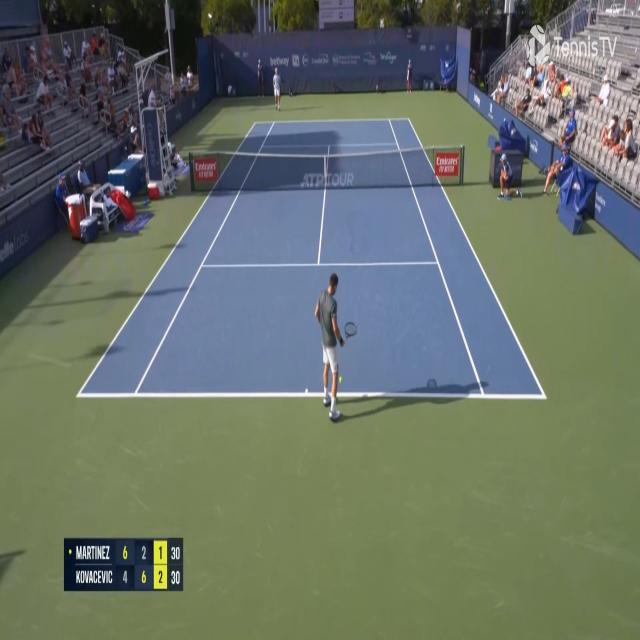tennis-player: (313, 270, 359, 424), (272, 66, 284, 114)
